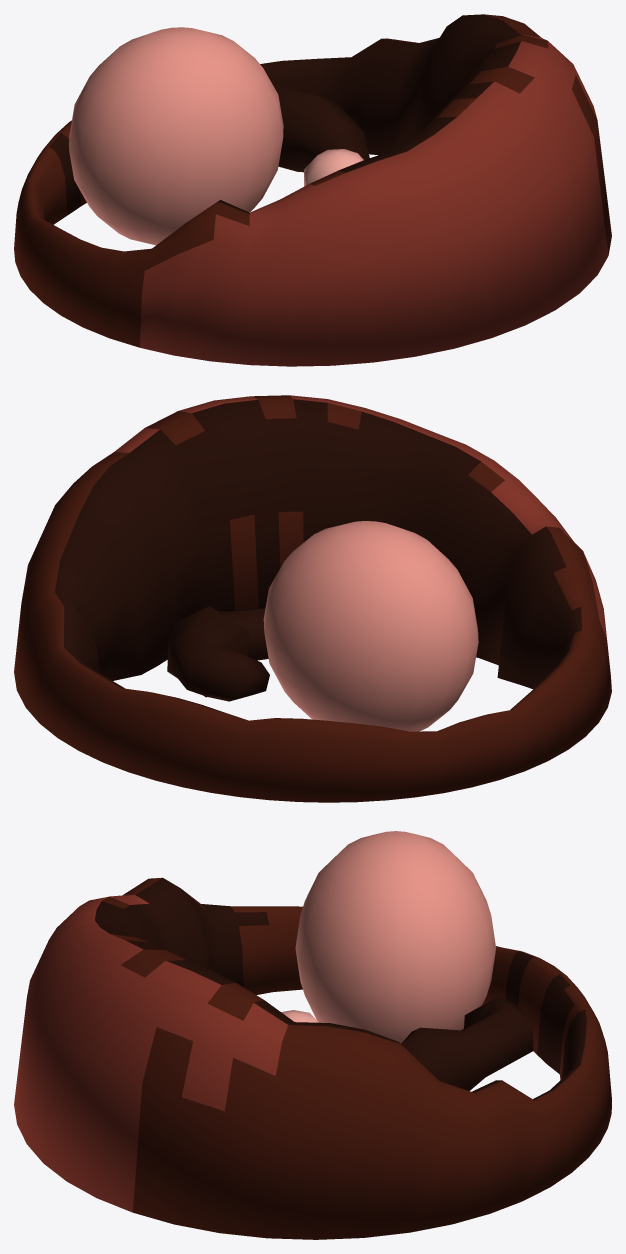
File: newshe-235.glb
3 renders of one model, top to bottom at view 1: azimuth 30°, elevation 25°; view 2: azimuth 150°, elevation 25°; view 3: azimuth 270°, elevation 25°, orthographic. The views are drawn at different scales.
Visible parts, largest first — view 1: newshe-235; view 2: newshe-235; view 3: newshe-235.
Boxes of the visible parts, x1=… form: newshe-235: x1=14, y1=14, x2=611, y2=366; newshe-235: x1=14, y1=395, x2=611, y2=802; newshe-235: x1=14, y1=831, x2=611, y2=1239.
Size of the model in its own units: 1.35 by 0.5082 by 1.27.
